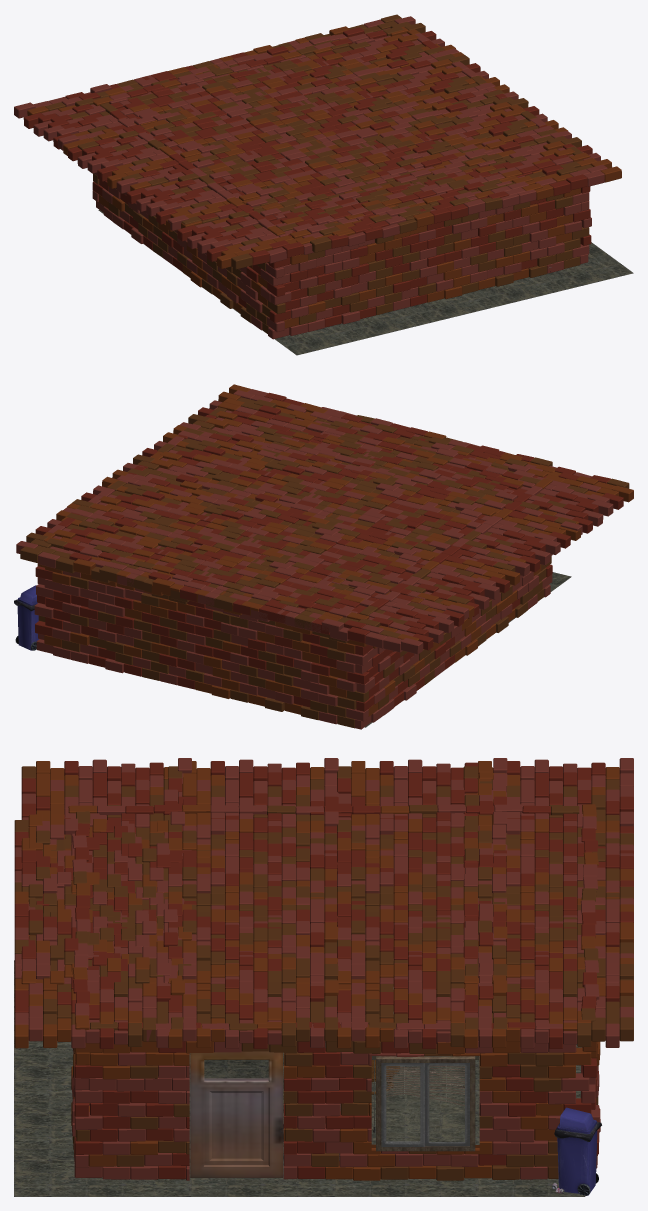
The model's file is unity-home.glb.
The picture shows the model from 3 angles, top to bottom: view 1: azimuth 30°, elevation 25°; view 2: azimuth 150°, elevation 25°; view 3: azimuth 270°, elevation 25°; orthographic projection. The views are drawn at different scales.
Visible parts, largest first — view 1: Cube (×11), Plane (×5), MeshBody1; view 2: Cube (×11), MeshBody1, SM_TrashCan_Material #38_0; view 3: Cube (×11), MeshBody1, Plane (×11), Front Door_007, Office_Window, SM_TrashCan_Material #38_0, Office_Blinds_2.
Part boxes in pixels (box(x1,y1,x2,y2)): Cube (×11): box(14, 14, 621, 339); Plane (×5): box(274, 242, 633, 355); MeshBody1: box(407, 29, 591, 264); Cube (×11): box(16, 384, 633, 729); MeshBody1: box(37, 407, 226, 639); SM_TrashCan_Material #38_0: box(14, 585, 39, 650); Cube (×11): box(14, 758, 633, 1168); MeshBody1: box(74, 1022, 591, 1180); Plane (×11): box(14, 1054, 585, 1196); Front Door_007: box(190, 1051, 282, 1177); Office_Window: box(376, 1056, 475, 1151); SM_TrashCan_Material #38_0: box(554, 1107, 601, 1195); Office_Blinds_2: box(372, 1055, 478, 1132).
Bounding box in the file's own units: 7.49 × 2.06 × 6.9.
36 materials, 29 textured.
